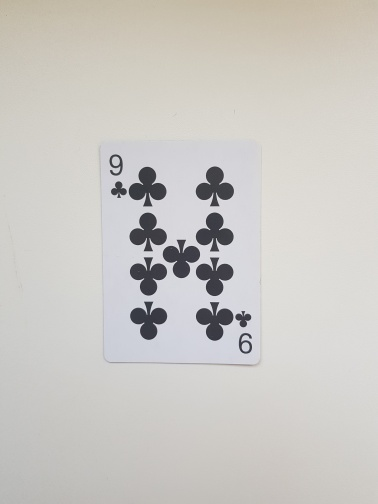nine: (96, 139, 264, 367)
